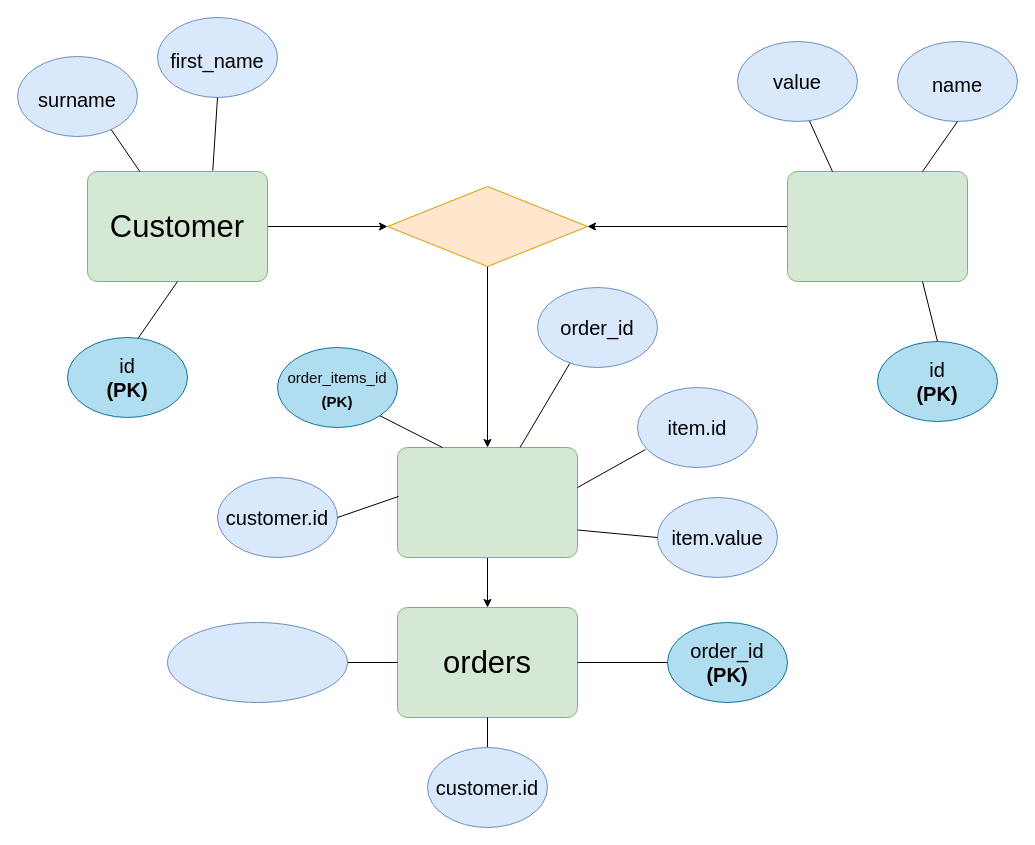
Some shapes in this 1035 by 845 pixel diagram are drawn without their labels. The box of each missing label's shape, as (x1, y1, x2, y2) in pixels:
item: (786, 170, 968, 282)
order_items: (396, 446, 578, 558)
Purchase: (386, 186, 588, 266)
total_order_cost: (166, 622, 348, 702)
